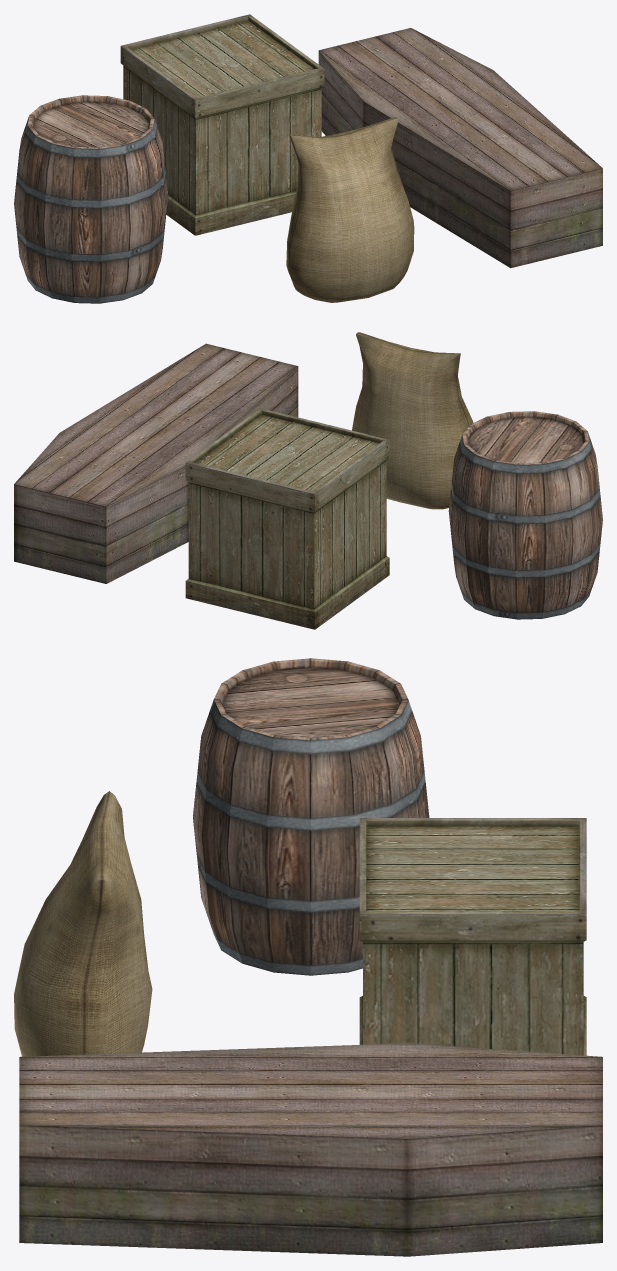
Rendered from Cajas.dae.
3 renders of one model, top to bottom at view 1: azimuth 30°, elevation 25°; view 2: azimuth 150°, elevation 25°; view 3: azimuth 270°, elevation 25°, orthographic. The views are drawn at different scales.
Parts seen in each view (by area): view 1: CoffinBox01, SquareBox01, Barrel, GrainSack01; view 2: SquareBox01, CoffinBox01, Barrel, GrainSack01; view 3: CoffinBox01, Barrel, SquareBox01, GrainSack01.
Part boxes in pixels (x1,y1,x2,y2): CoffinBox01: (318, 28, 602, 268); SquareBox01: (120, 14, 324, 235); Barrel: (14, 95, 168, 303); GrainSack01: (286, 117, 414, 302); SquareBox01: (185, 408, 389, 629); CoffinBox01: (14, 343, 298, 583); Barrel: (448, 411, 602, 619); GrainSack01: (352, 332, 473, 509); CoffinBox01: (19, 1043, 602, 1256); Barrel: (193, 658, 429, 975); SquareBox01: (359, 818, 586, 1055); GrainSack01: (14, 791, 152, 1056).
Size of the model in its own units: 107 by 71.5 by 32.41.
